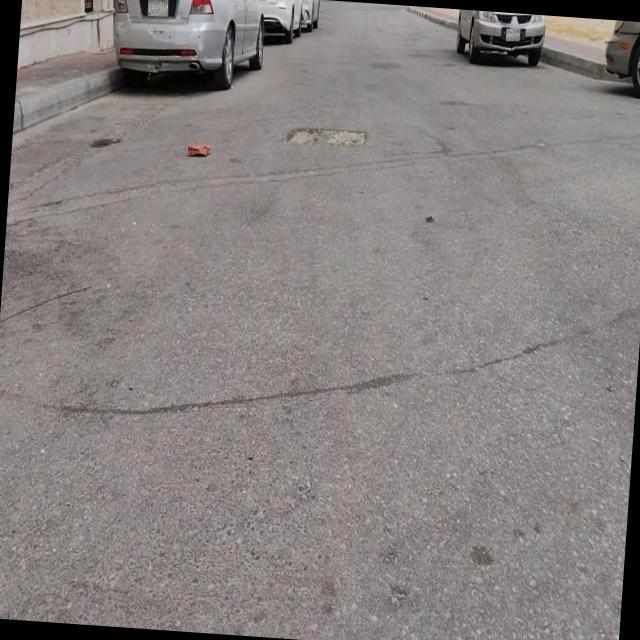Pothole: (284, 127, 365, 147)
